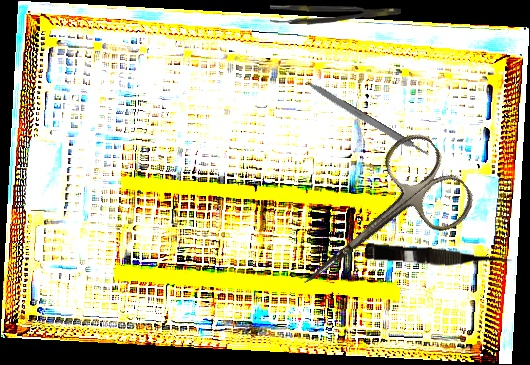Iris Scissors: (271, 124, 483, 323)
Micro Scissor: (364, 242, 513, 274)
Scalpel Handle: (302, 78, 432, 161)
Tissue Forceps: (269, 4, 402, 27)
